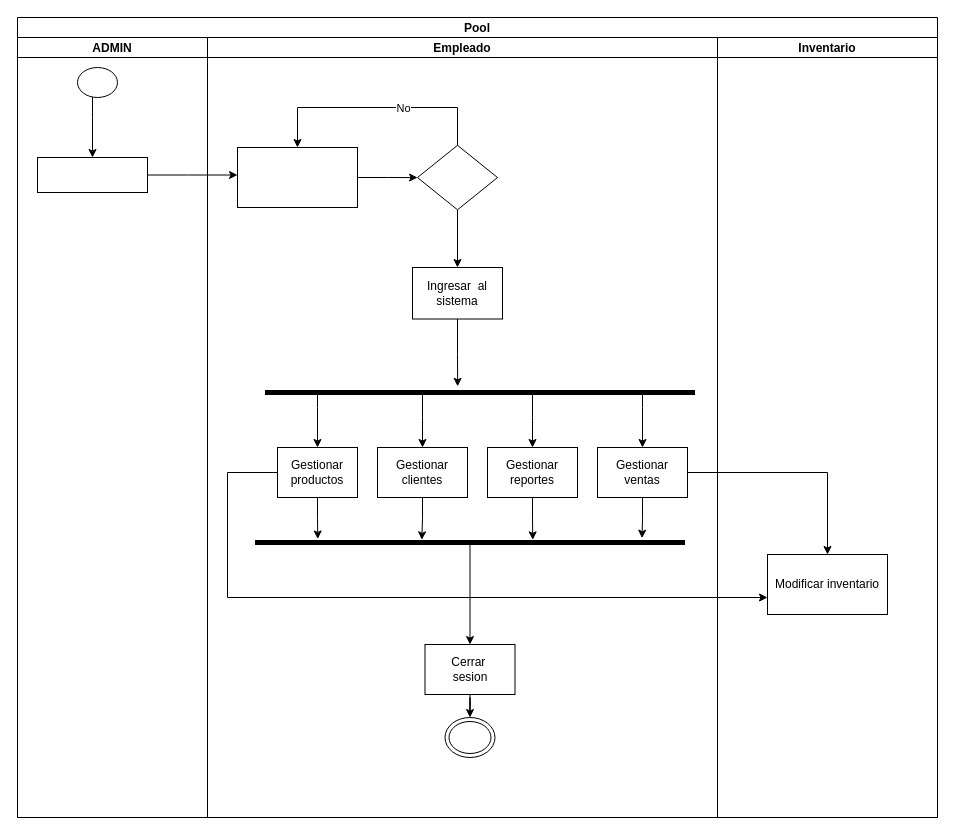
The diagram is 955 pixels wide and 835 high, and some of its shapes have lost their labels. Each missing label, with the box of its shape:
Fin: (444, 716, 495, 758)
Iniciar sesion: (236, 146, 358, 208)
Inicio: (76, 66, 118, 98)
Registrar empleado: (36, 156, 148, 192)
¿Credenciales correctas?: (416, 144, 498, 210)
